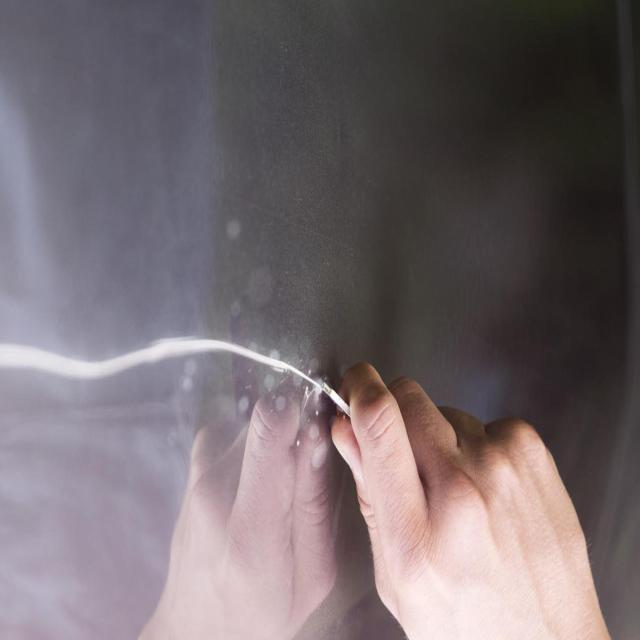scratch: (106, 327, 318, 404)
